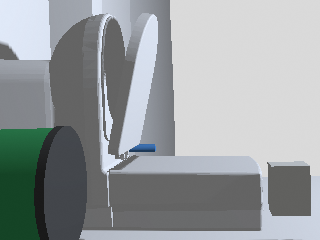lid_1: (108, 13, 159, 155)
